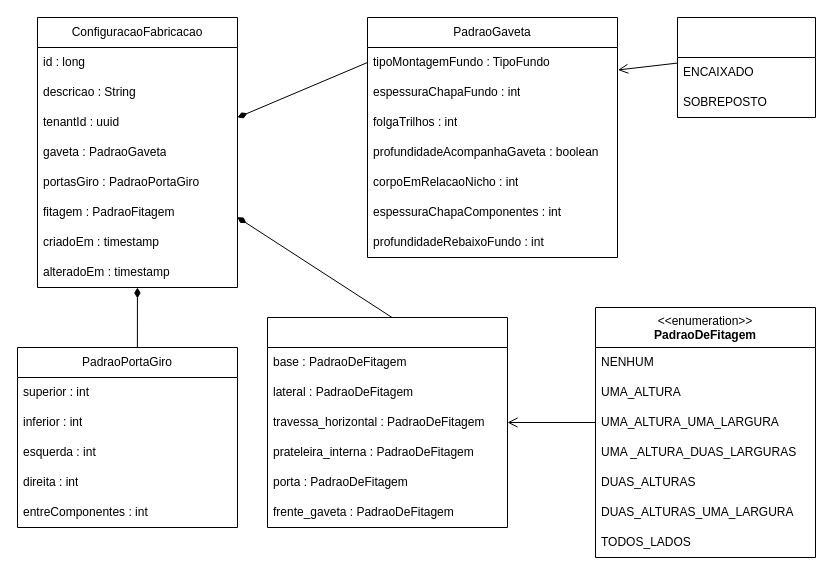
This 833x575 diagram has some shape labels left out. Here are the shapes that lost their labels. From the top down, the box of each, then its label:
(676, 16, 816, 118): <<enumeration>> TipoFundo
(266, 316, 508, 528): PadraoFitagem
